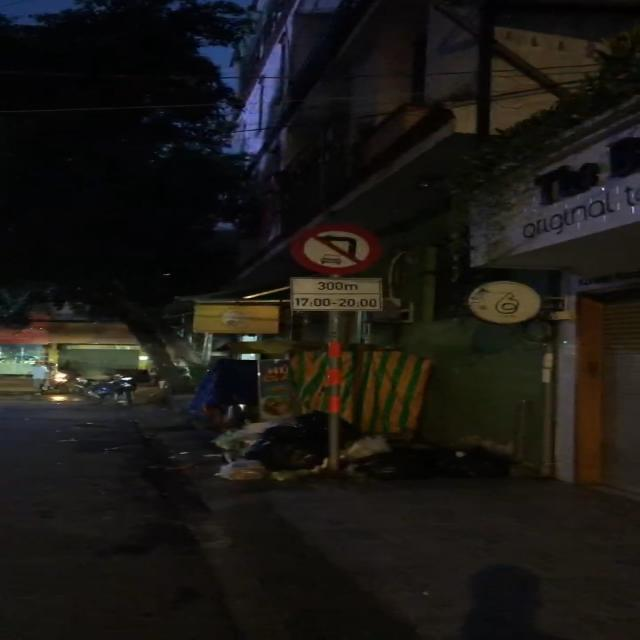Bien bao cam xe o to re trai: (287, 224, 388, 276)
